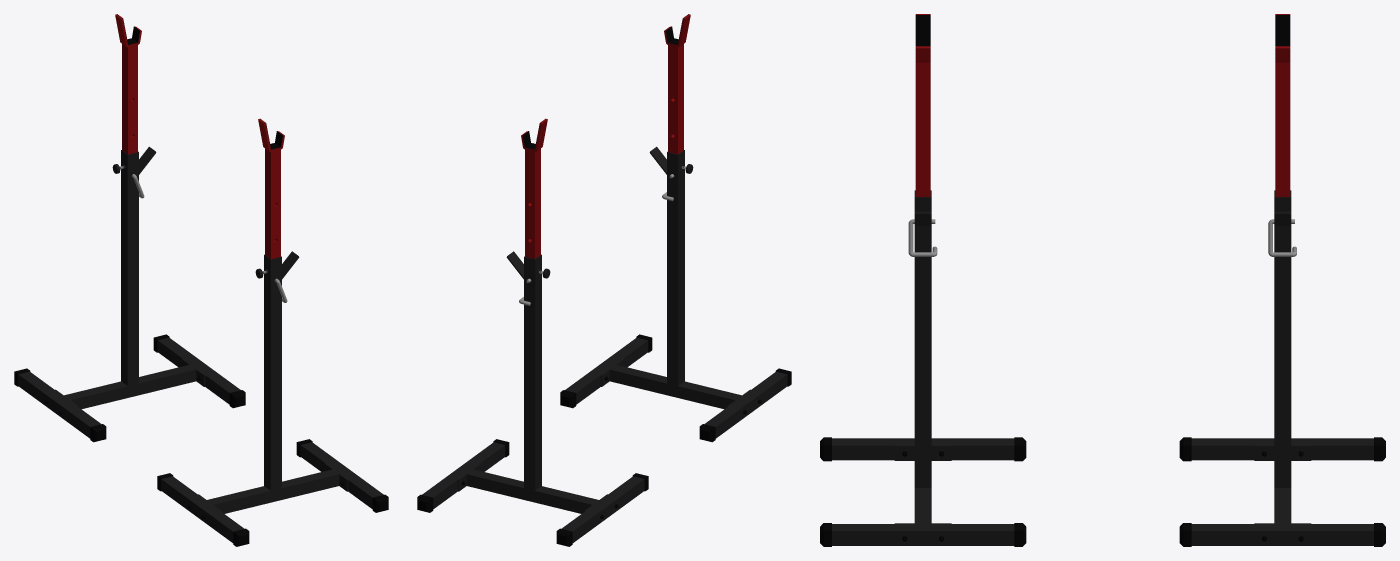
3 renders of one model, left to right at view 1: azimuth 30°, elevation 25°; view 2: azimuth 150°, elevation 25°; view 3: azimuth 270°, elevation 25°, orthographic. The views are drawn at different scales.
Visible parts, largest first — view 1: Kostka, Kostka.010, Kostka.001, Kostka.011, Kostka.002, Kostka.012, Kostka.004, Kostka.013, Kostka.014, Kostka.003; view 2: Kostka.010, Kostka, Kostka.011, Kostka.001, Kostka.002, Kostka.012, Kostka.013, Kostka.004, Kostka.003, Kostka.014; view 3: Kostka, Kostka.010, Kostka.003, Kostka.014, Kostka.004, Kostka.013, Kostka.002, Kostka.012, Kostka.001, Kostka.011.
Part boxes in pixels (x1,y1,x2,y2): Kostka: [121, 146, 156, 385]; Kostka.010: [264, 251, 299, 490]; Kostka.001: [55, 358, 205, 409]; Kostka.011: [198, 463, 348, 513]; Kostka.002: [115, 14, 141, 154]; Kostka.012: [258, 119, 284, 259]; Kostka.004: [18, 371, 101, 438]; Kostka.013: [161, 476, 244, 542]; Kostka.014: [300, 442, 383, 508]; Kostka.003: [157, 337, 240, 404]; Kostka.010: [649, 146, 684, 385]; Kostka: [506, 251, 541, 490]; Kostka.011: [600, 358, 750, 409]; Kostka.001: [457, 463, 607, 513]; Kostka.002: [521, 119, 547, 259]; Kostka.012: [664, 14, 690, 154]; Kostka.013: [704, 371, 787, 438]; Kostka.004: [561, 476, 644, 542]; Kostka.003: [422, 442, 505, 508]; Kostka.014: [565, 337, 648, 404]; Kostka: [1274, 190, 1291, 487]; Kostka.010: [914, 190, 931, 487]; Kostka.003: [1191, 524, 1373, 545]; Kostka.014: [832, 524, 1014, 545]; Kostka.004: [1191, 438, 1373, 460]; Kostka.013: [832, 438, 1014, 460]; Kostka.002: [1275, 14, 1290, 196]; Kostka.012: [915, 14, 930, 196]; Kostka.001: [1254, 445, 1311, 523]; Kostka.011: [894, 445, 951, 523].
Bounding box in the file's own units: 0.4554 × 1.06 × 1.13.
